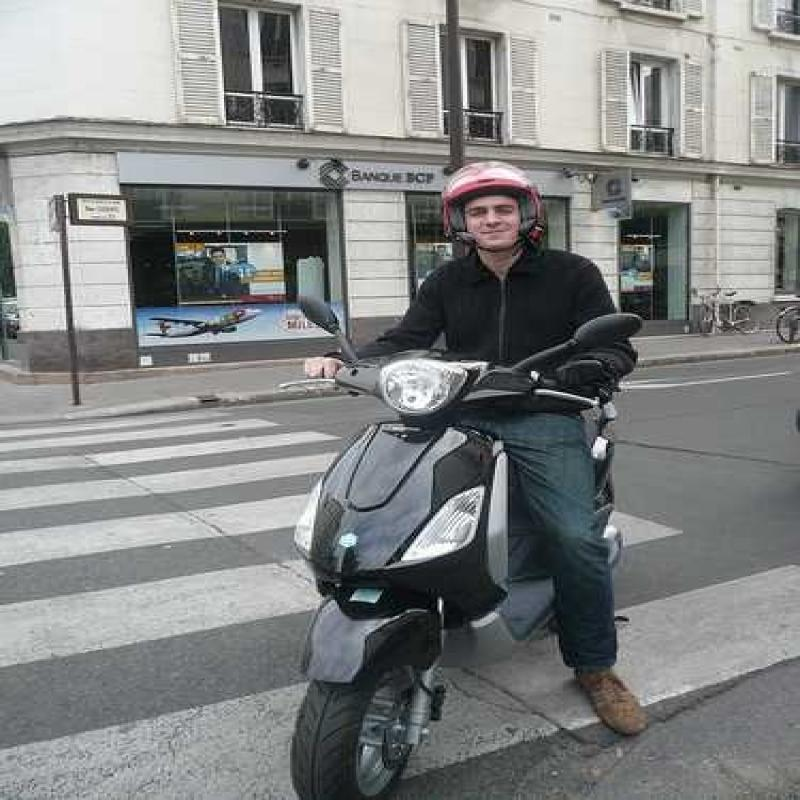bike: (287, 329, 603, 800)
